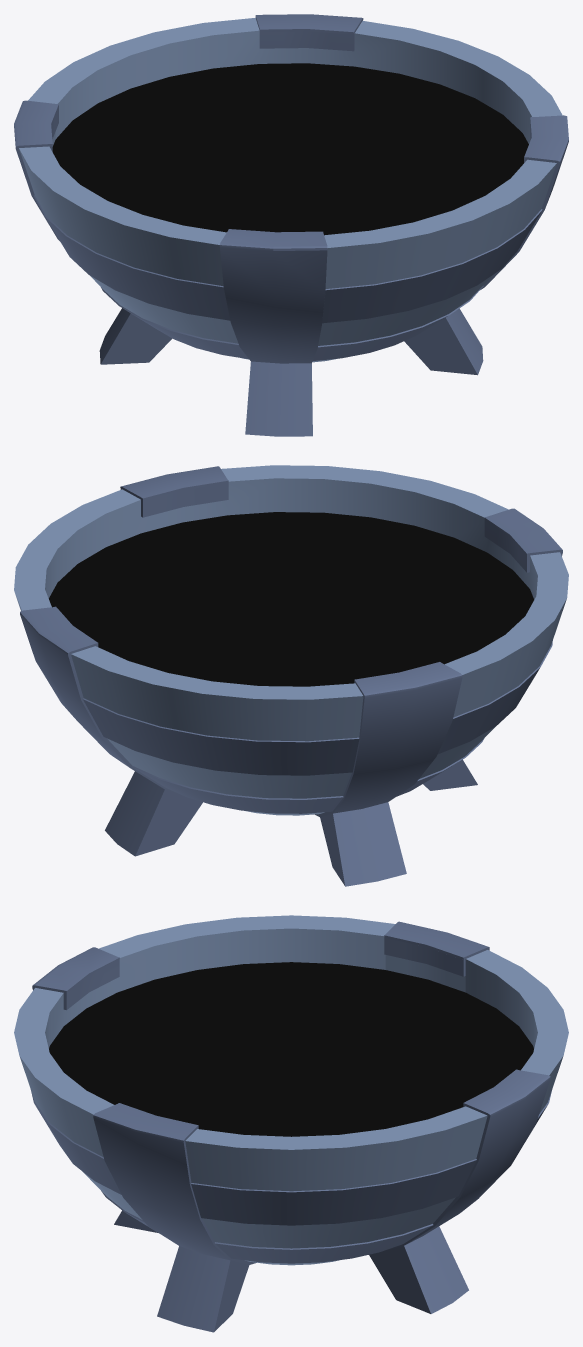
Rendered from Brazier.fbx.
3 renders of one model, top to bottom at view 1: azimuth 30°, elevation 25°; view 2: azimuth 150°, elevation 25°; view 3: azimuth 270°, elevation 25°, orthographic.
Parts seen in each view (by area): view 1: Brazier; view 2: Brazier; view 3: Brazier.
Boxes of the visible parts, x1=… form: Brazier: x1=14, y1=14, x2=568, y2=436; Brazier: x1=14, y1=465, x2=568, y2=886; Brazier: x1=14, y1=915, x2=568, y2=1332.
Bounding box in the file's own units: 196 × 88.87 × 196.
